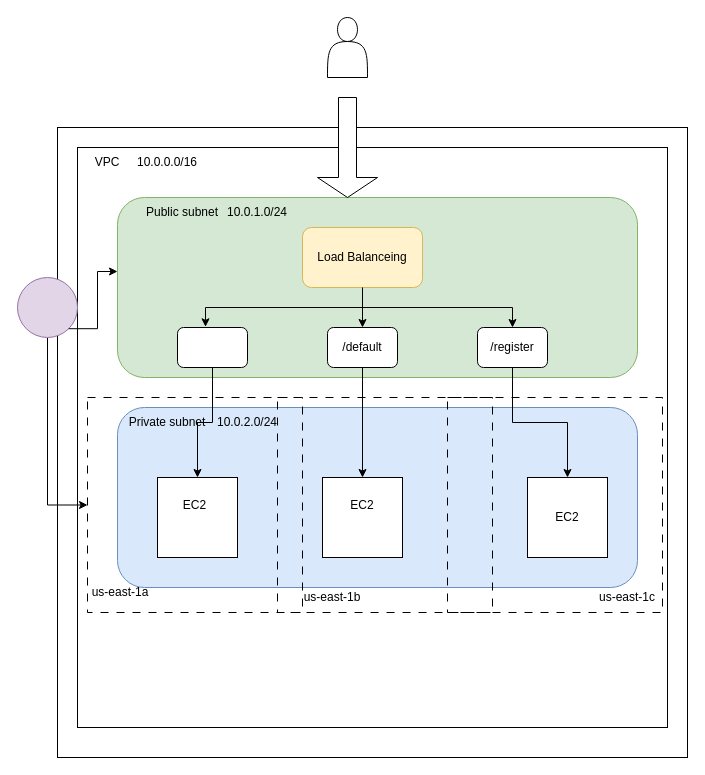
Image size: 705x775. Some labels were removed from this diagram. The shapes that lost their labels are listed below. From the top down, each one's centre as x and y in pixels, then its label:
(47,307): NAT
(212,347): /image
